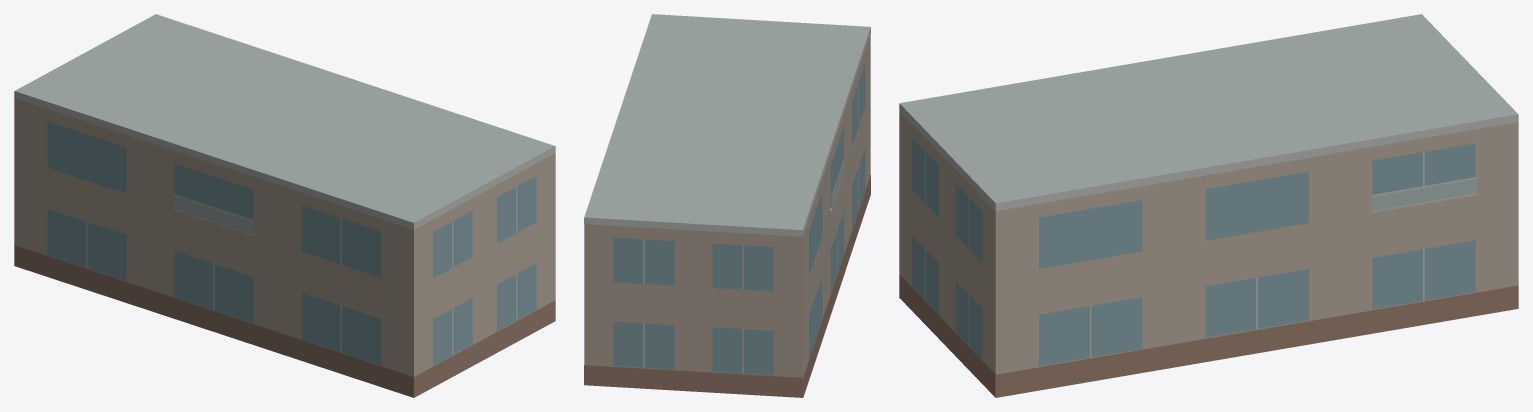
The model's file is survey-upis-32698452.glb.
The picture shows the model from 3 angles, left to right: view 1: azimuth 30°, elevation 25°; view 2: azimuth 150°, elevation 25°; view 3: azimuth 270°, elevation 25°; orthographic projection. The views are drawn at different scales.
Visible parts, largest first — view 1: survey-upis-32698452.tmp; view 2: survey-upis-32698452.tmp; view 3: survey-upis-32698452.tmp.
Part boxes in pixels (left/top/right/bottom): survey-upis-32698452.tmp: left=14, top=14, right=555, bottom=397; survey-upis-32698452.tmp: left=584, top=14, right=870, bottom=397; survey-upis-32698452.tmp: left=899, top=14, right=1518, bottom=397.
Bounding box in the file's own units: 12.76 × 6.1 × 17.61.
